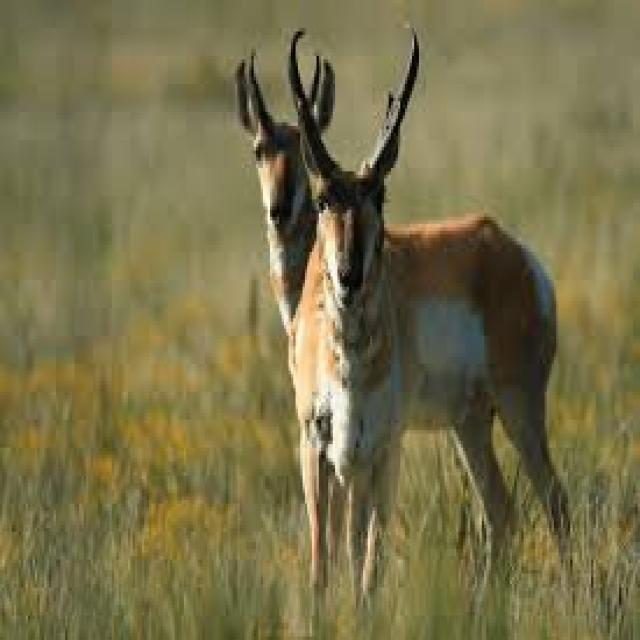Antelope: (288, 12, 580, 593), (230, 43, 321, 326)
